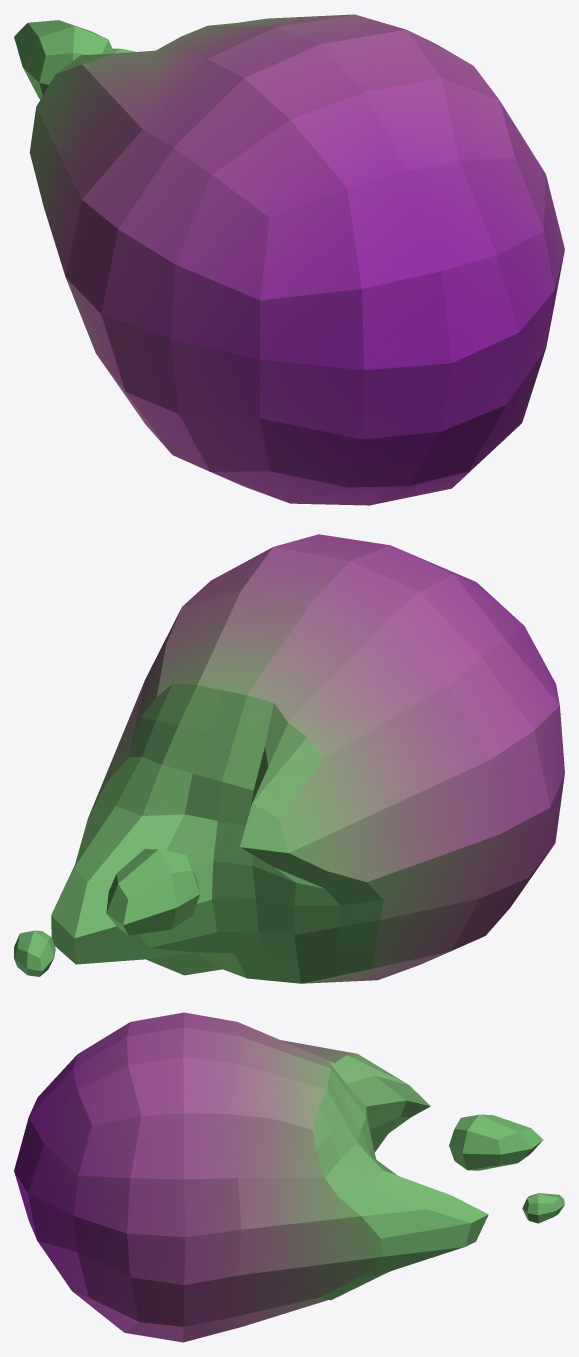
The model's file is Bola de Ácido.fbx.
3 views of the same model, one above another, from view 1: azimuth 30°, elevation 25°; view 2: azimuth 150°, elevation 25°; view 3: azimuth 270°, elevation 25° (orthographic). The views are drawn at different scales.
Parts seen in each view (by area): view 1: Bola; view 2: Bola; view 3: Bola.
Part boxes in pixels (x1,y1,x2,y2): Bola: [14, 14, 564, 505]; Bola: [14, 534, 564, 983]; Bola: [14, 1012, 564, 1342].
Size of the model in its own units: 28.47 by 28.27 by 49.22.
